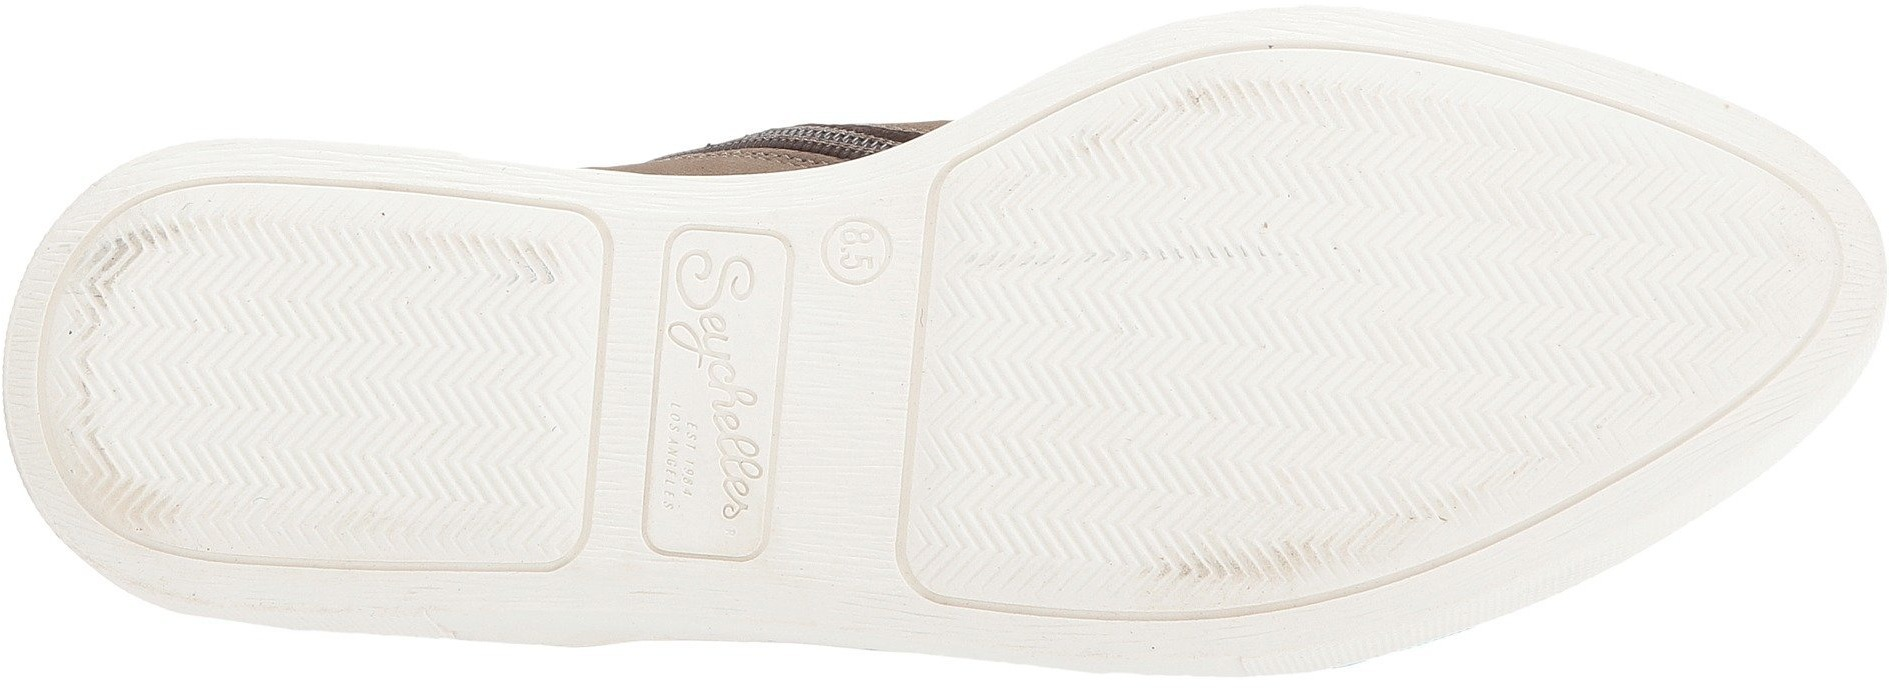chevron: (1257, 81, 1605, 443), (947, 198, 1250, 475), (318, 201, 576, 474), (80, 258, 313, 474), (1613, 195, 1801, 365), (1258, 449, 1397, 566)
circle: (816, 207, 908, 296)
quad: (635, 217, 816, 580)
text: (635, 217, 816, 580), (651, 376, 773, 488), (666, 249, 777, 359), (816, 207, 908, 296), (826, 218, 887, 287)
